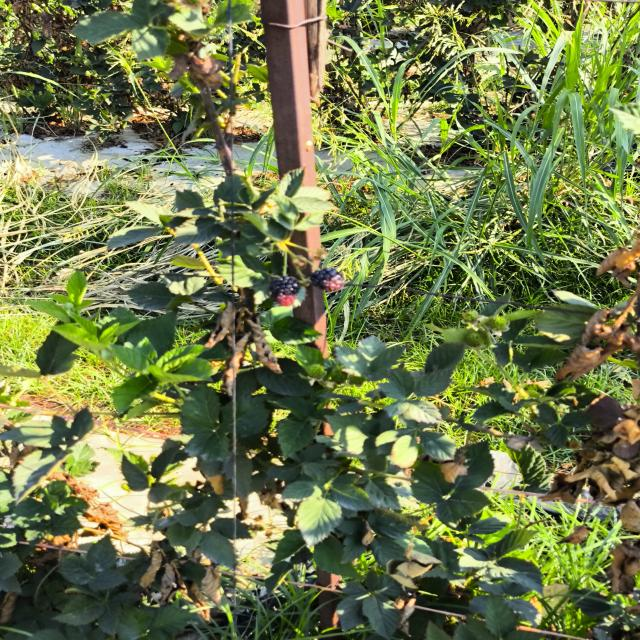marron: (270, 276, 300, 306), (310, 267, 345, 292)
